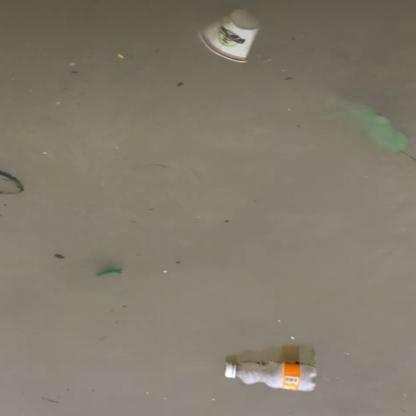Plastic: (222, 353, 319, 395), (194, 9, 262, 65)
